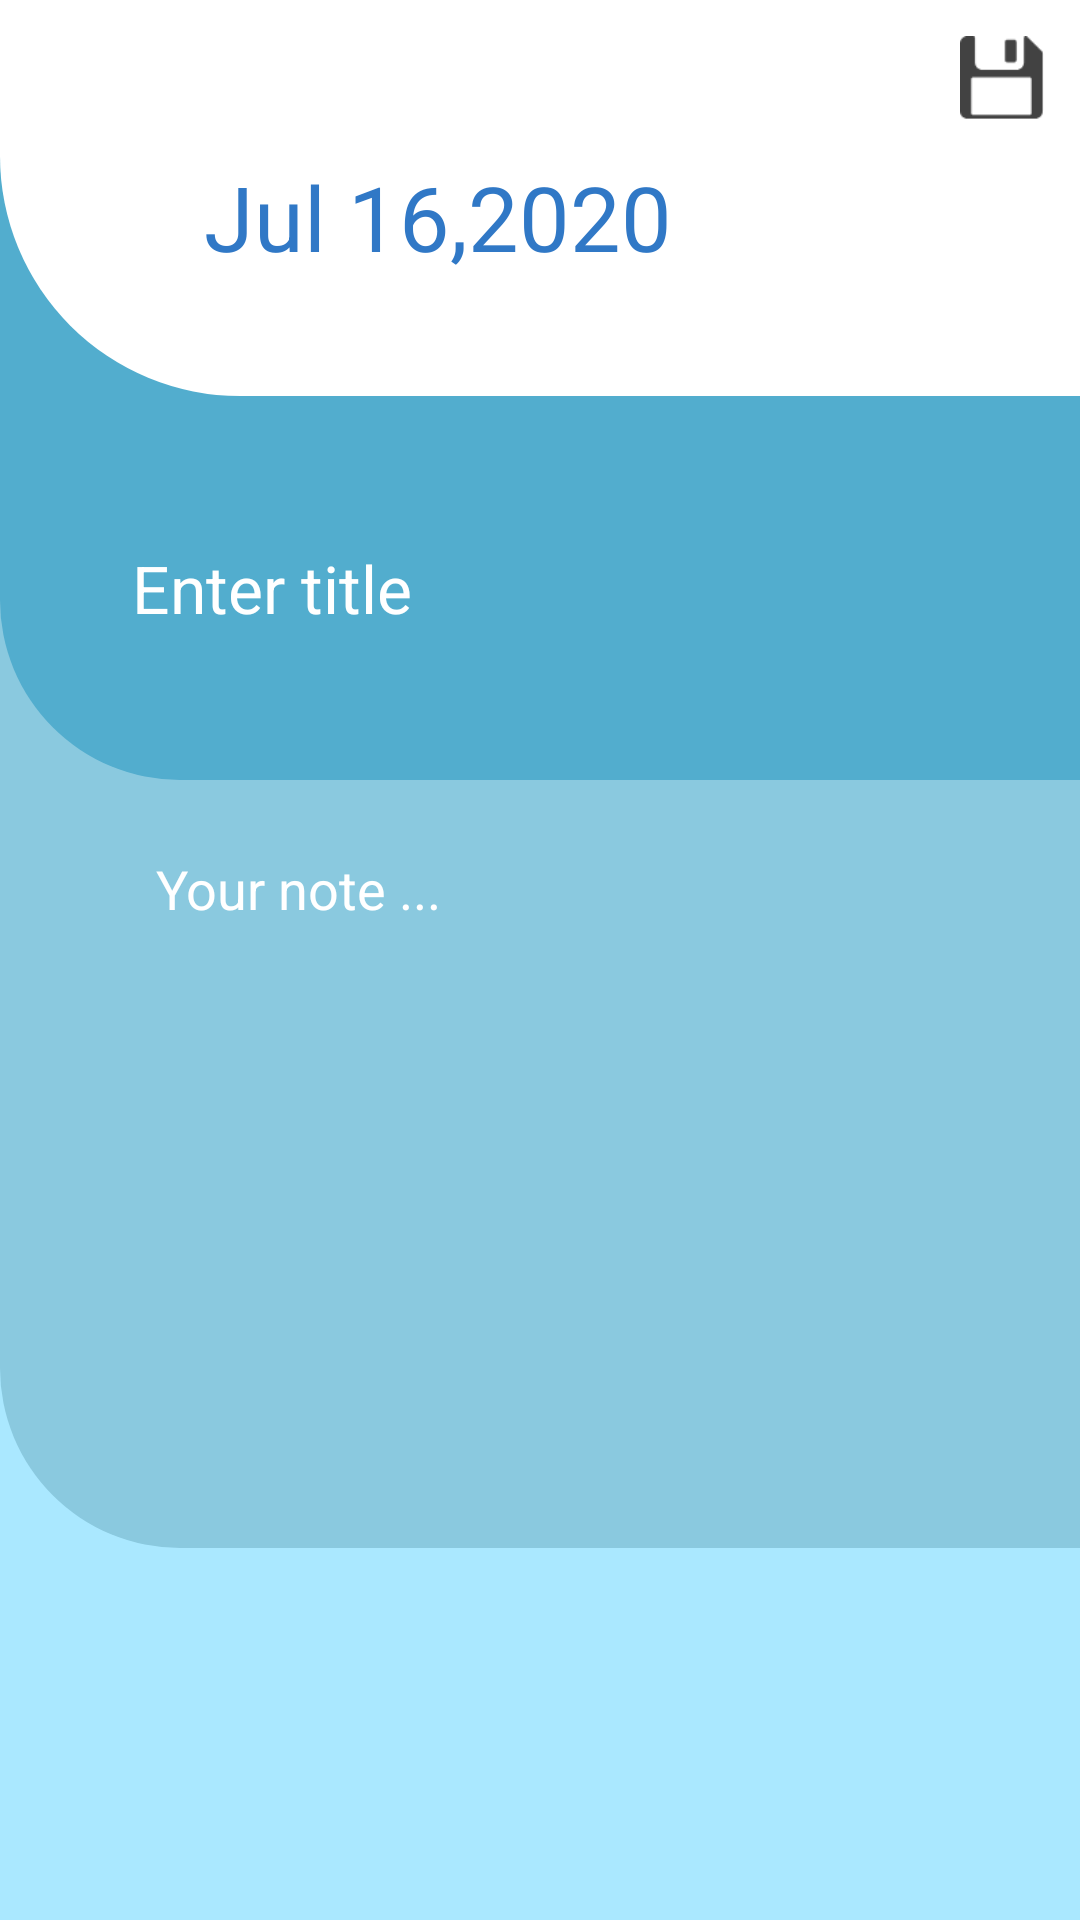

Locate icon controls on the screen. Image size 1080px x 1920px, boxes as Rect(x1, y1, x2, y2).
old save: Rect(960, 36, 1043, 119)
